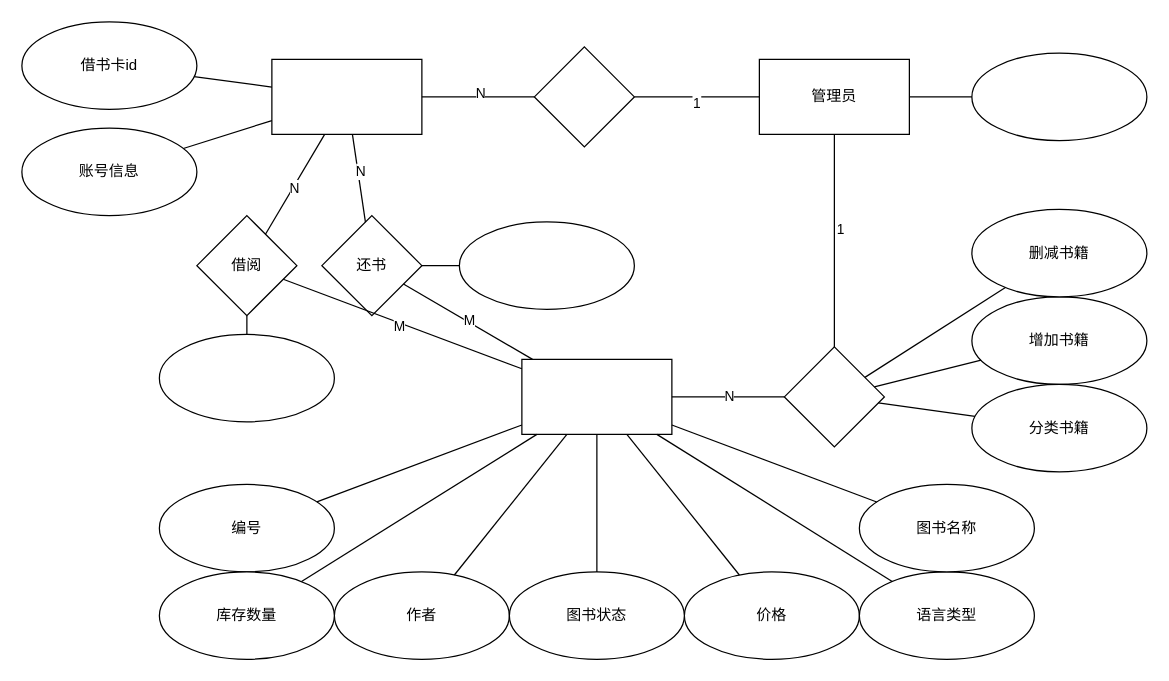
Image size: 1169x681. Some labels were removed from this diagram. The box of each missing label's shape, as (x1, y1, x2, y2) in pixels:
书籍: (521, 358, 672, 434)
借书日期: (158, 333, 334, 422)
图书管理: (783, 346, 884, 447)
用户: (271, 58, 422, 134)
用户管理: (533, 46, 634, 147)
账户信息: (971, 52, 1147, 141)
还书日期: (458, 221, 634, 309)
